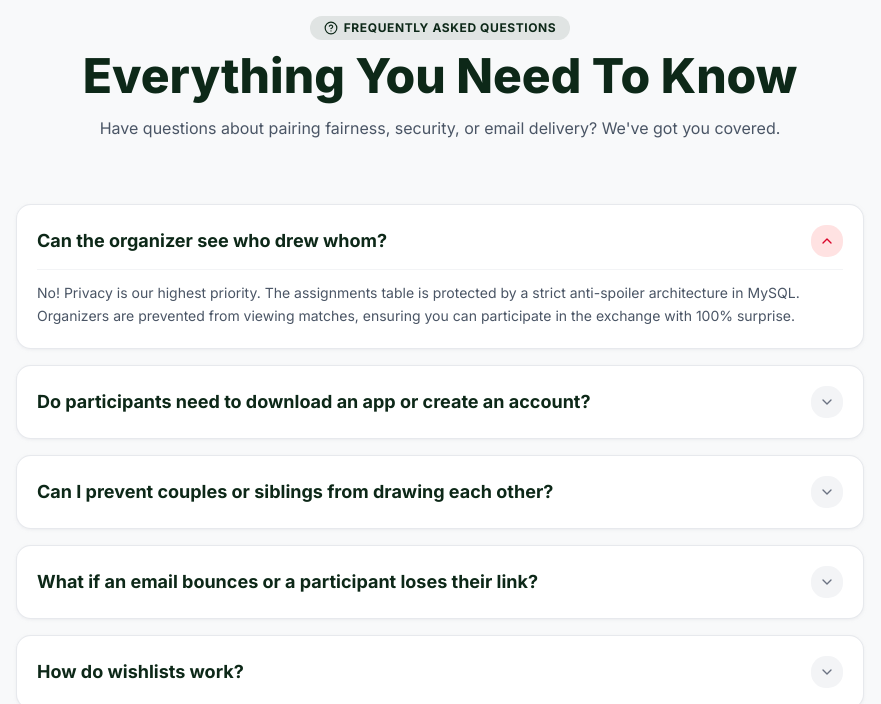
Marketing Landing Page Components › FAQSection Component › renders questions and expands answer when clicked
Expected: the heading "Can the organizer see who drew whom?" is shown, [37,227,387,255]
Click to toggle second FAQ
Click the heading "Do participants need to download an app or create an account?": (314, 402) [37,388,590,416]
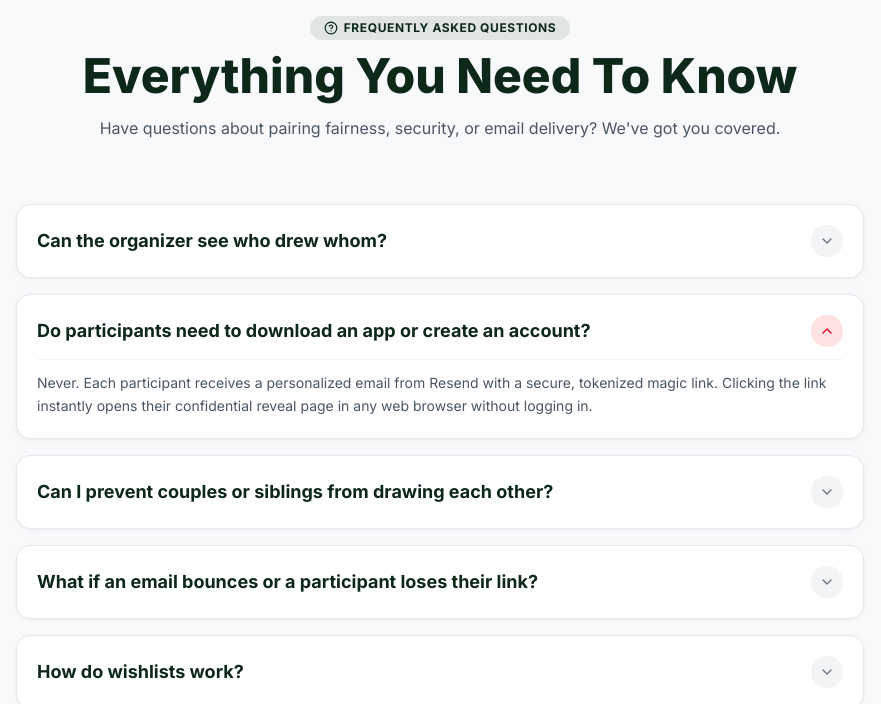
Expected: the text "Each participant receives a personalized email from Resend" is shown, [37,374,826,414]
